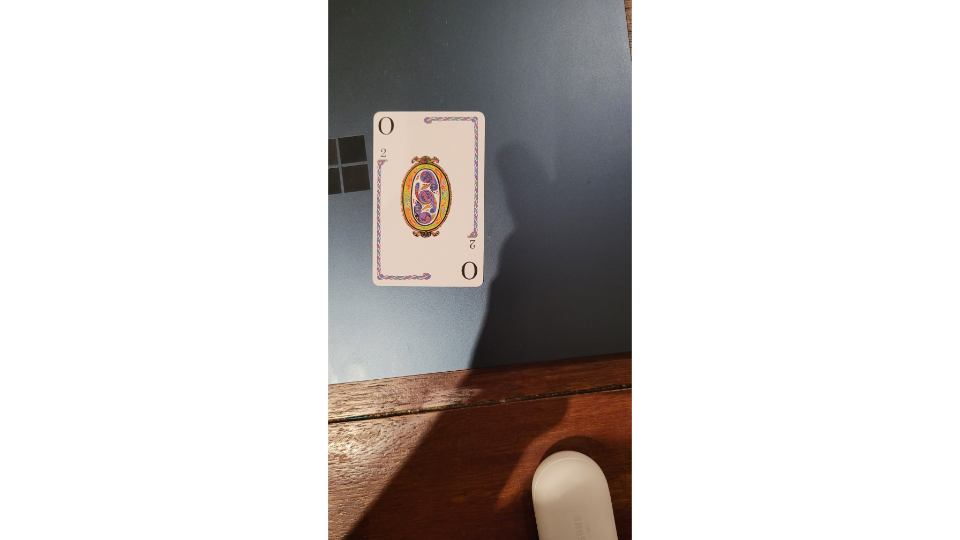O: (366, 106, 488, 292)
